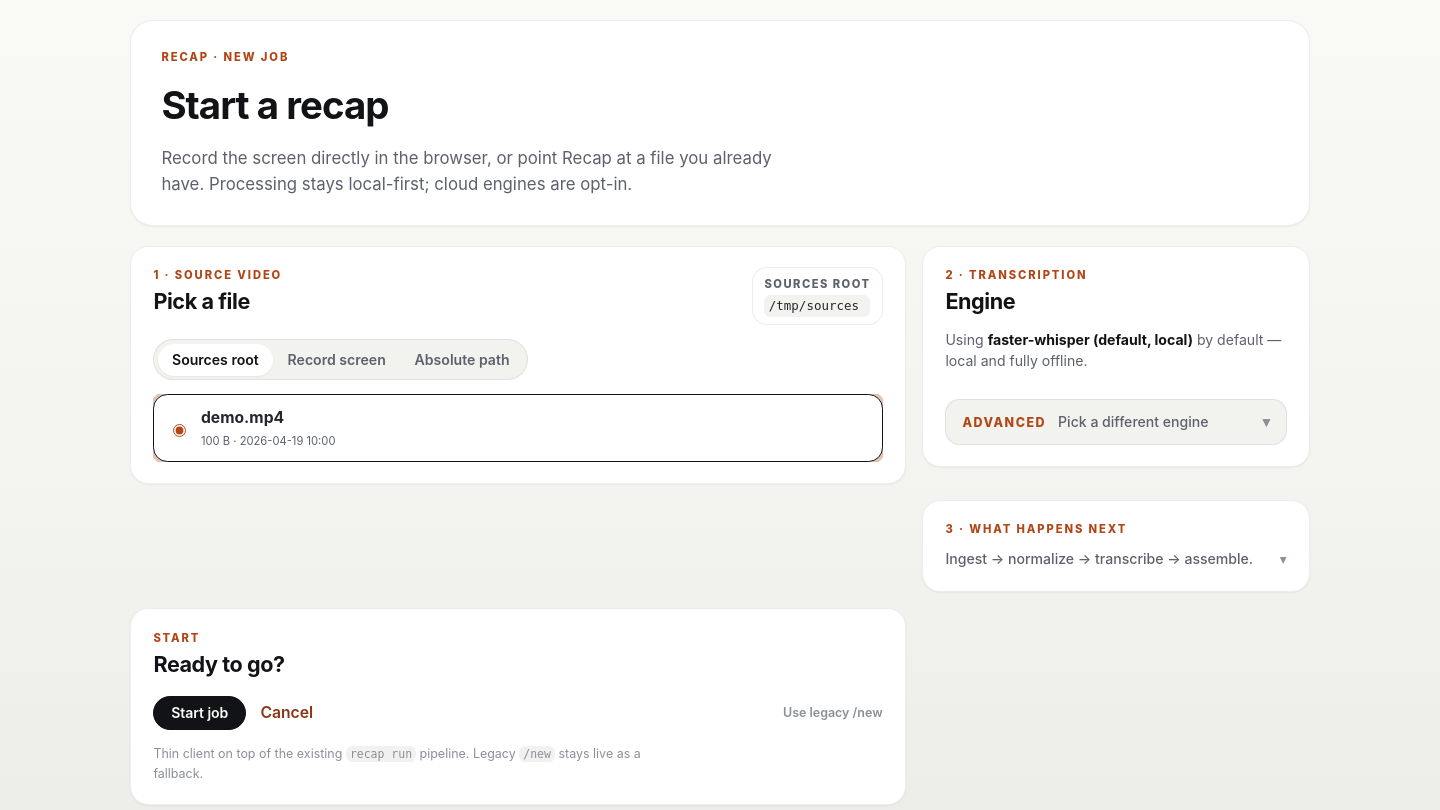
NewJobPage › renders the server-provided error when /api/jobs/start rejects
expect the text "demo.mp4" is shown: met, box [201,408,284,427]
Click the button "Start job" at point(200, 713), box [153,696,246,730]
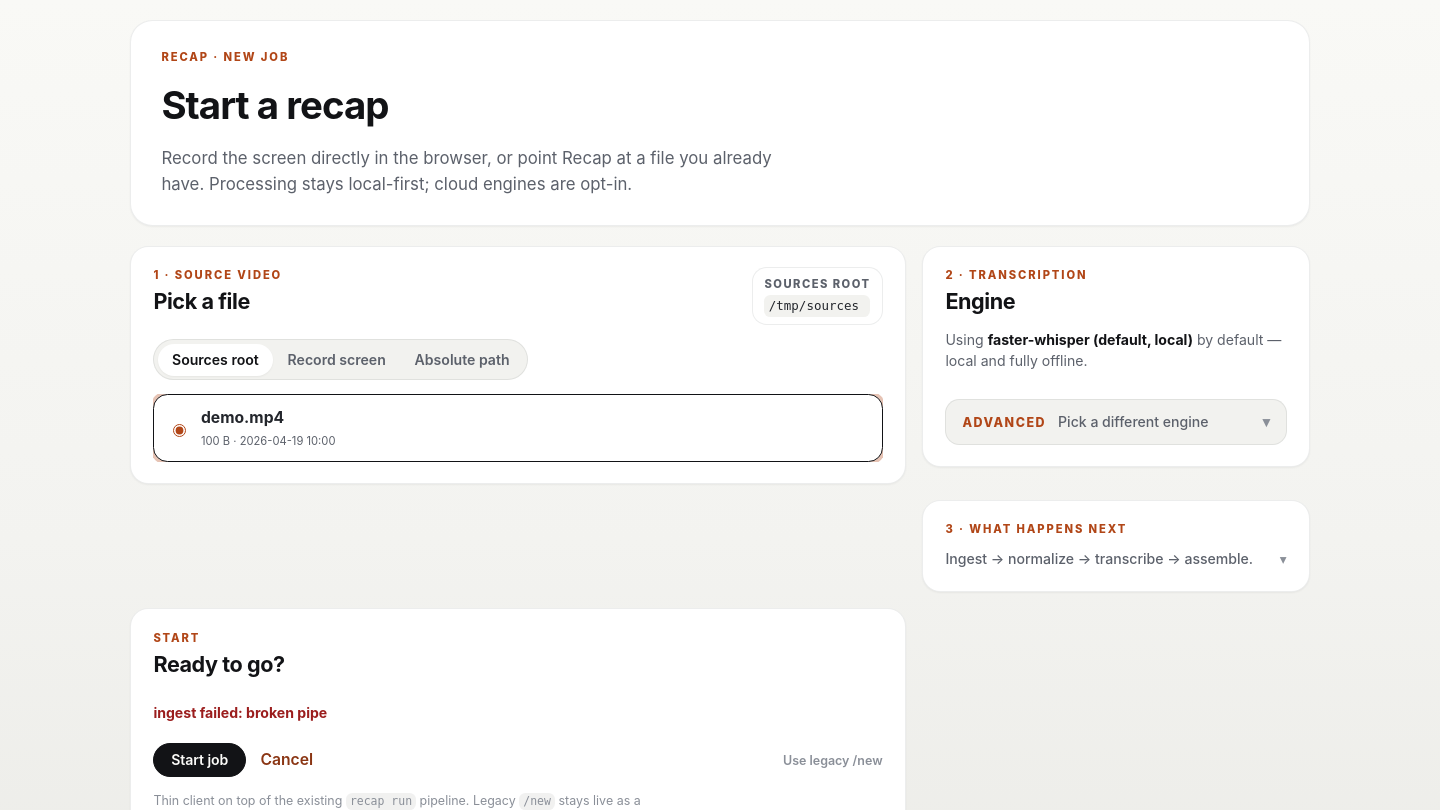
expect the text "ingest failed: broken pipe" is shown: met, box [153,704,327,721]
